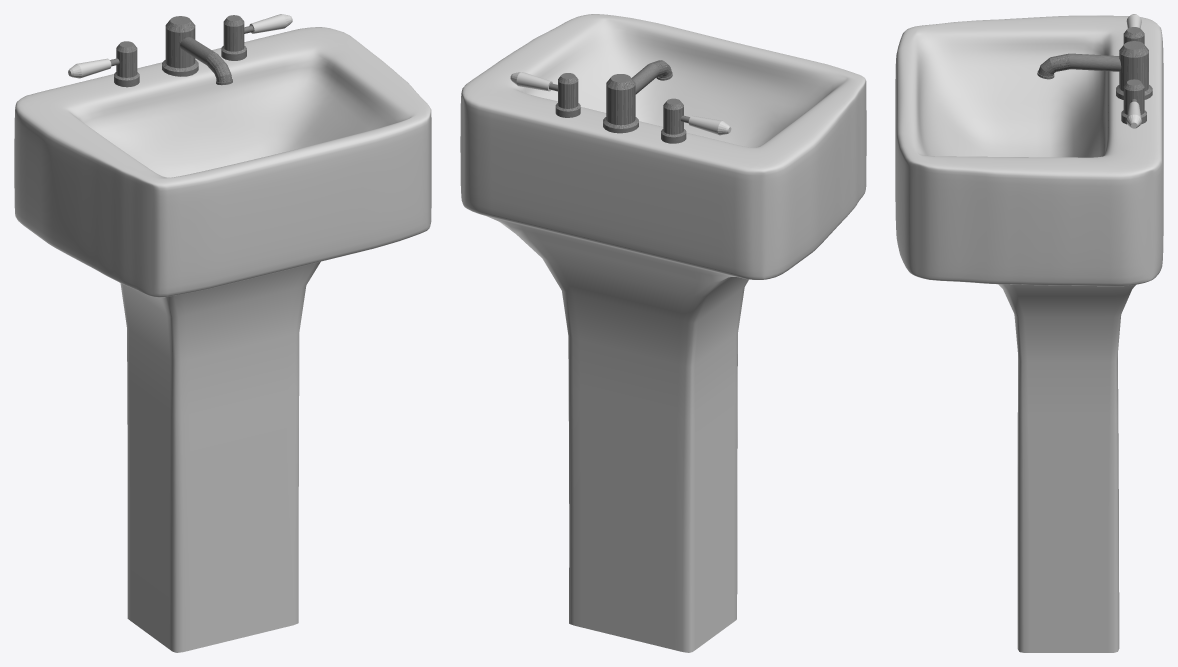
Rendered from Sink (Washroom).FBX.
3 renders of one model, left to right at view 1: azimuth 30°, elevation 25°; view 2: azimuth 150°, elevation 25°; view 3: azimuth 270°, elevation 25°, orthographic.
Parts seen in each view (by area): view 1: Sink (Washroom); view 2: Sink (Washroom); view 3: Sink (Washroom).
Part boxes in pixels (x1=…): Sink (Washroom): x1=14, y1=14, x2=431, y2=652; Sink (Washroom): x1=460, y1=14, x2=866, y2=652; Sink (Washroom): x1=895, y1=14, x2=1163, y2=652.
Size of the model in its own units: 69.15 by 114 by 48.26.
2 materials, 1 textured.
